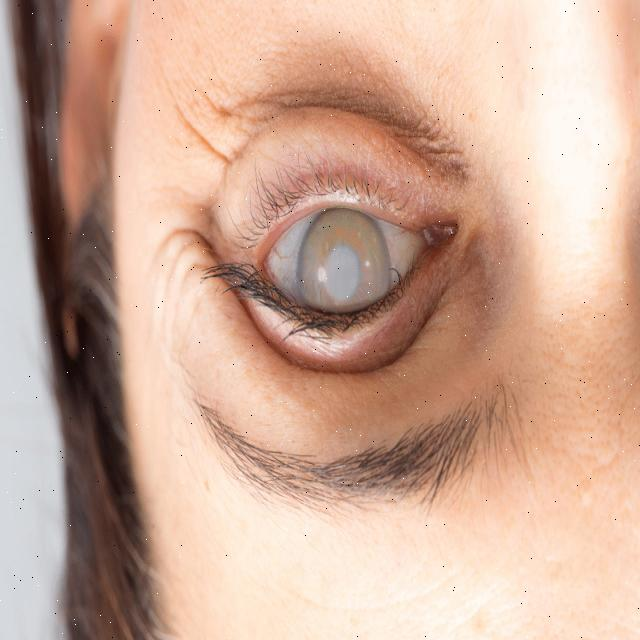Cataract: (296, 202, 388, 344)
